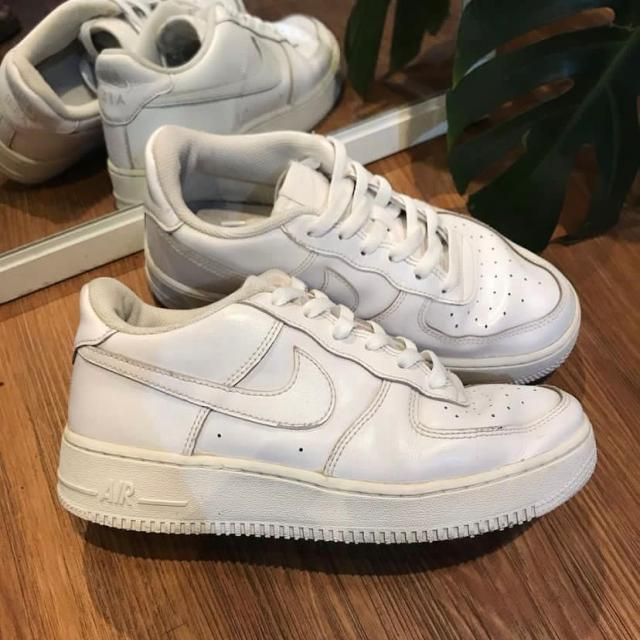nike fake air force: (58, 273, 600, 544), (136, 120, 593, 380)
